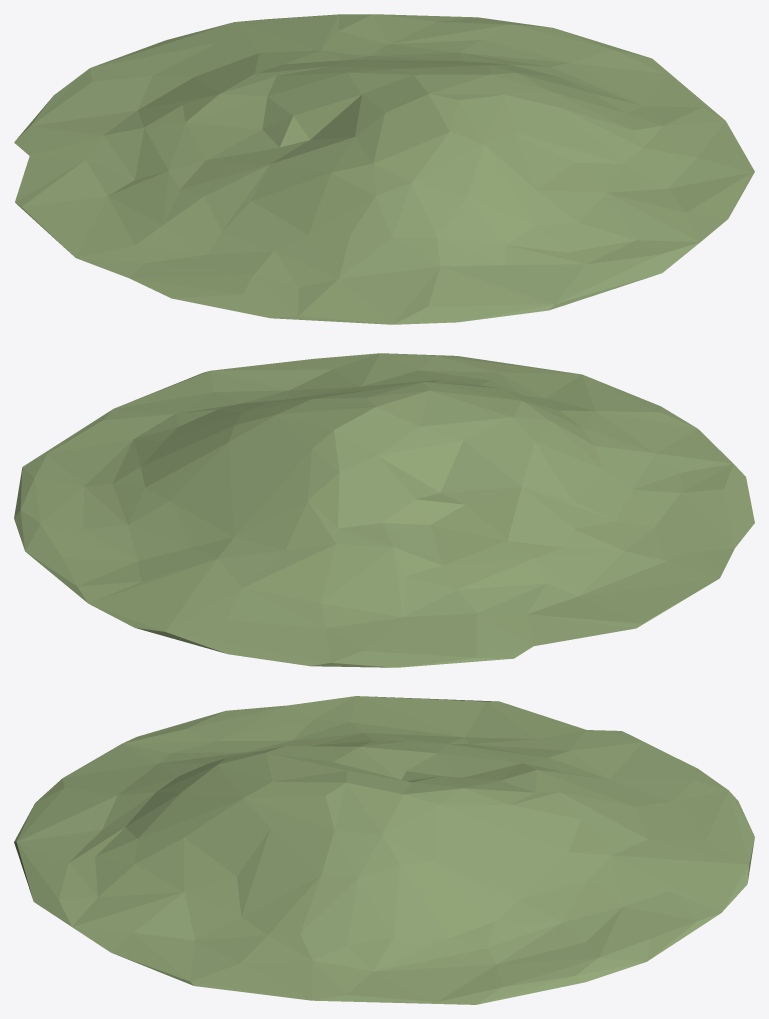
Rendered from 突起地.FBX.
3 views of the same model, one above another, from view 1: azimuth 30°, elevation 25°; view 2: azimuth 150°, elevation 25°; view 3: azimuth 270°, elevation 25° (orthographic).
Visible parts, largest first — view 1: 突起地; view 2: 突起地; view 3: 突起地.
Boxes of the visible parts, left/top/right/bottom form: 突起地: left=14, top=14, right=754, bottom=324; 突起地: left=14, top=353, right=754, bottom=667; 突起地: left=14, top=696, right=754, bottom=1004.
Bounding box in the file's own units: 659 × 82.66 × 668.
1 material, 1 textured.
